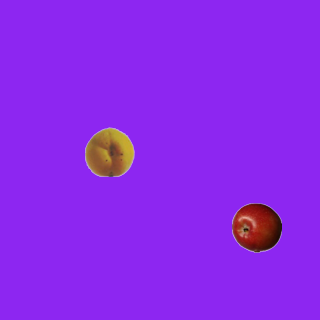Apple Braeburn: (231, 202, 281, 252)
Peach 2: (84, 126, 134, 176)
